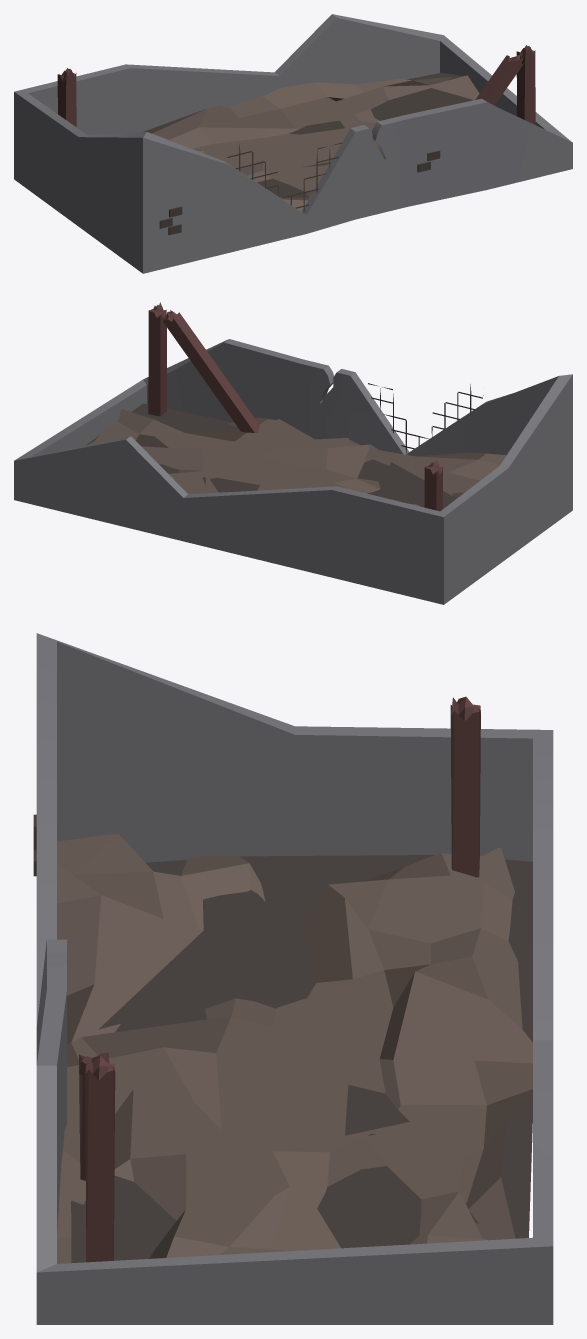
The model's file is ruine_v2.fbx.
3 renders of one model, top to bottom at view 1: azimuth 30°, elevation 25°; view 2: azimuth 150°, elevation 25°; view 3: azimuth 270°, elevation 25°, orthographic. The views are drawn at different scales.
Parts seen in each view (by area): view 1: debri v2; view 2: debri v2; view 3: debri v2.
Boxes of the visible parts, <box> form: debri v2: <box>14,14,572,273</box>; debri v2: <box>14,302,572,604</box>; debri v2: <box>33,633,553,1324</box>.
Bounding box in the file's own units: 1251 × 396 × 655.
Materials: 1 (1 with a texture image).
